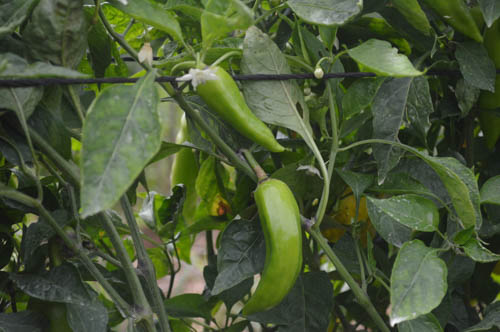ChiliPepper: (242, 182, 305, 315), (200, 67, 284, 155)
